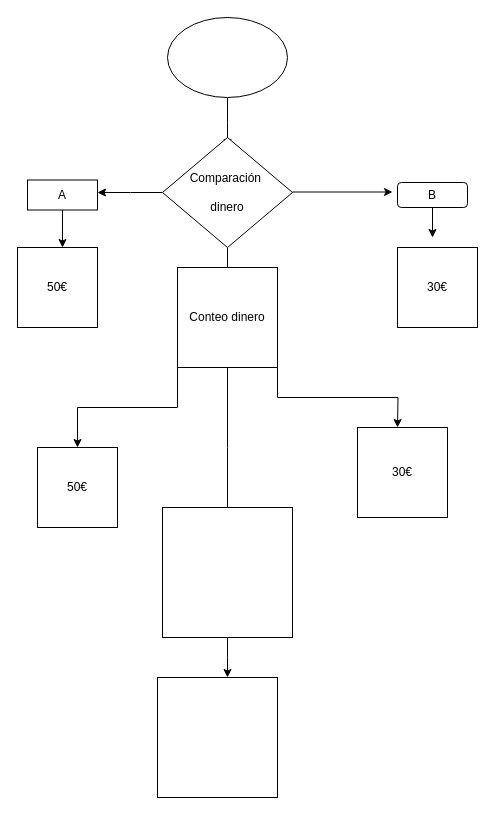
This 495x815 diagram has some shape labels left out. The centre of each missing label's shape, as x and y in pixels:
Inicio: the point at 227,57
¿Quien tiene más dinero: the point at 227,572
